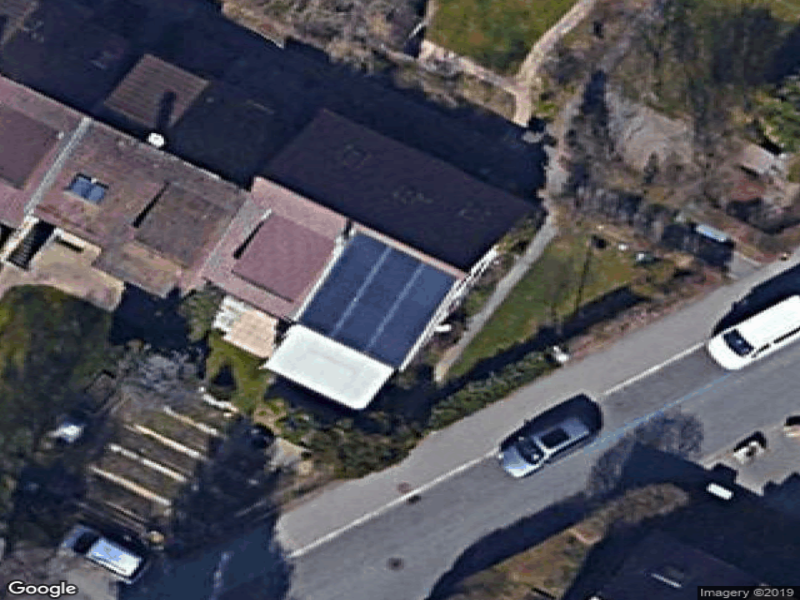pv: (299, 231, 453, 369)
